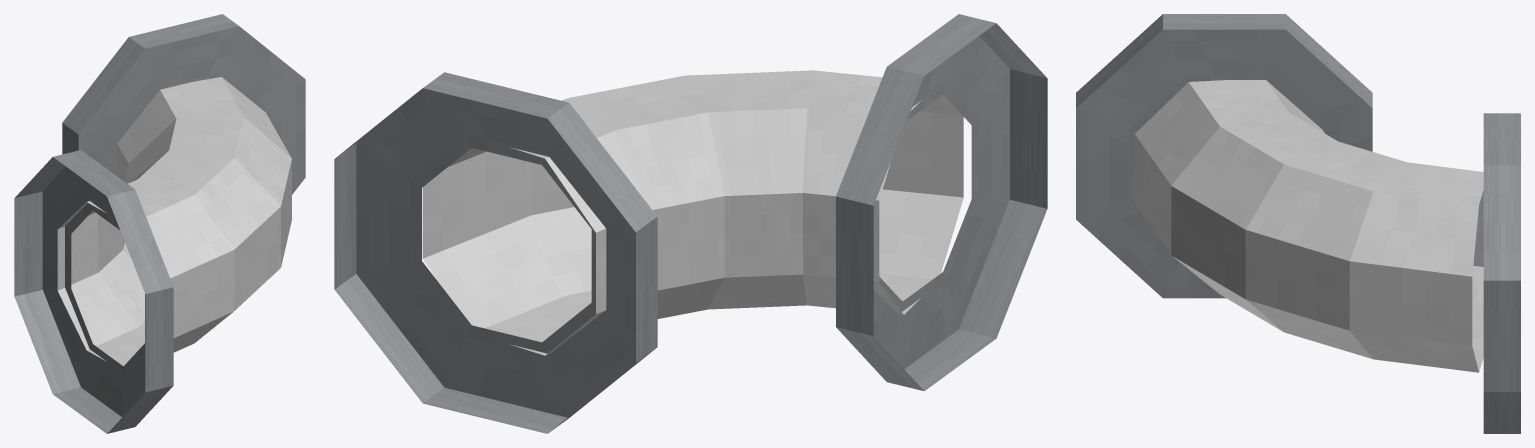
File: connection_20.obj
The picture shows the model from 3 angles, left to right: view 1: azimuth 30°, elevation 25°; view 2: azimuth 150°, elevation 25°; view 3: azimuth 270°, elevation 25°; orthographic projection. The views are drawn at different scales.
Size of the model in its own units: 0.75 by 0.5 by 0.75.
